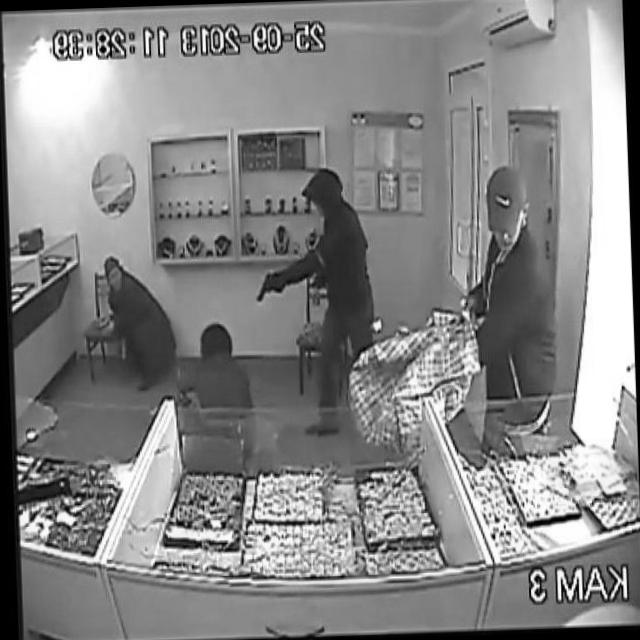gun: (252, 267, 282, 308)
person: (444, 168, 576, 390), (84, 245, 164, 372)
person with a gun: (244, 166, 384, 402)
